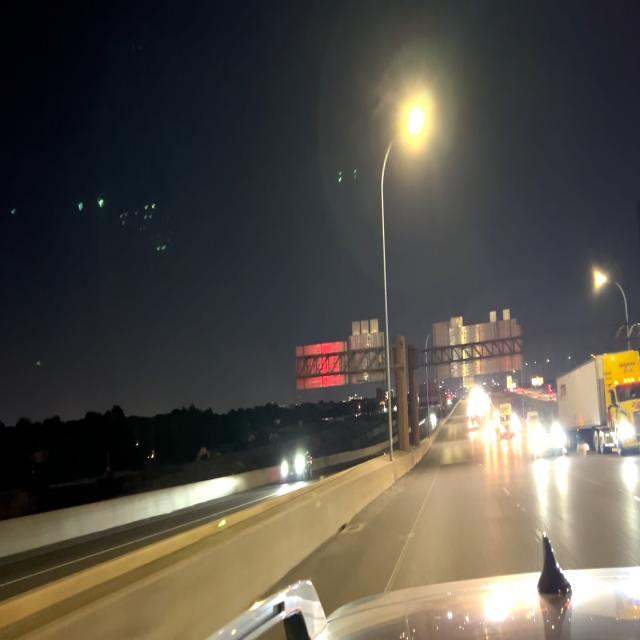back-of-sign: (295, 319, 387, 393), (433, 307, 524, 380)
